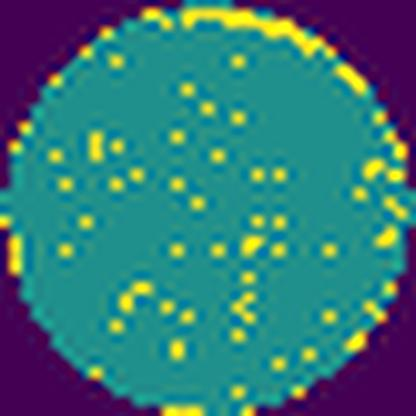Edge-Loc: (182, 8, 340, 64), (331, 68, 375, 92)
